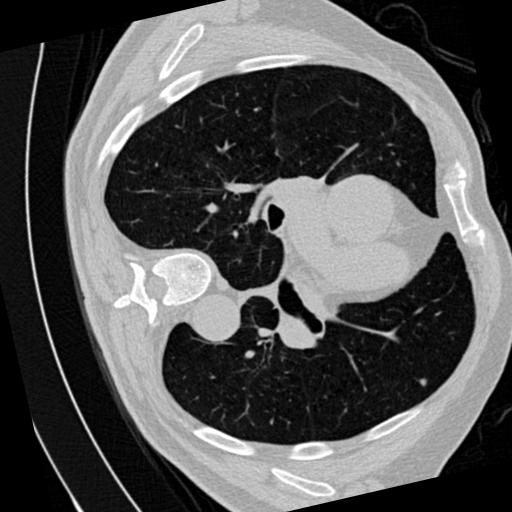nodule: (418, 375, 432, 389)
